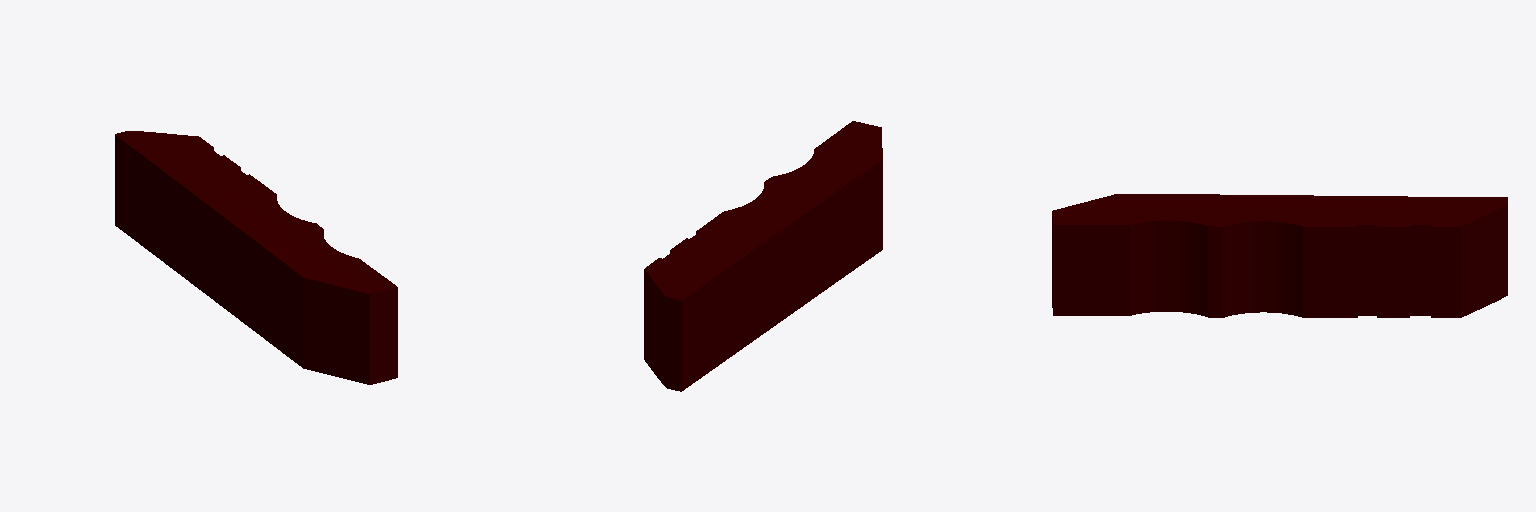
The model's file is launcher_lever.obj.
3 renders of one model, left to right at view 1: azimuth 30°, elevation 25°; view 2: azimuth 150°, elevation 25°; view 3: azimuth 270°, elevation 25°, orthographic.
Visible parts, largest first — view 1: Plane.007; view 2: Plane.007; view 3: Plane.007.
Part boxes in pixels (bbox=[...]): Plane.007: bbox=[115, 131, 397, 384]; Plane.007: bbox=[644, 121, 882, 391]; Plane.007: bbox=[1052, 194, 1507, 317].
Size of the model in its own units: 0.1248 by 0.1626 by 0.7304.